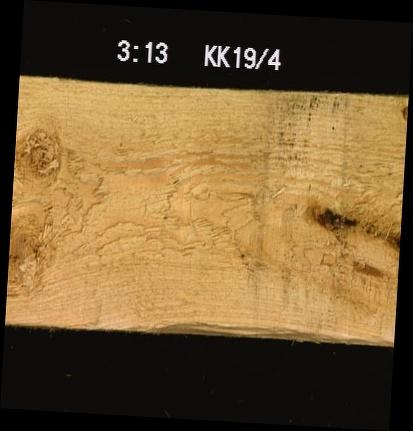dry_knot: (400, 103, 407, 122)
sound_knot: (9, 195, 65, 303), (14, 125, 63, 183)
wave: (124, 305, 394, 340)
